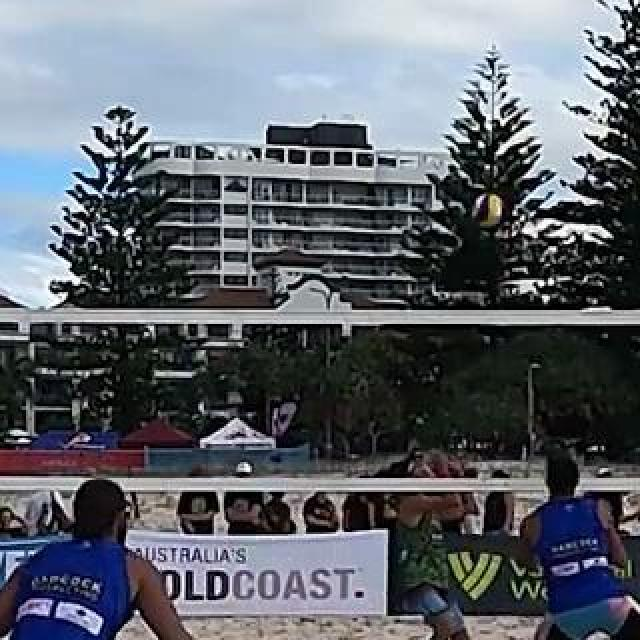volleyball: (474, 194, 504, 224)
